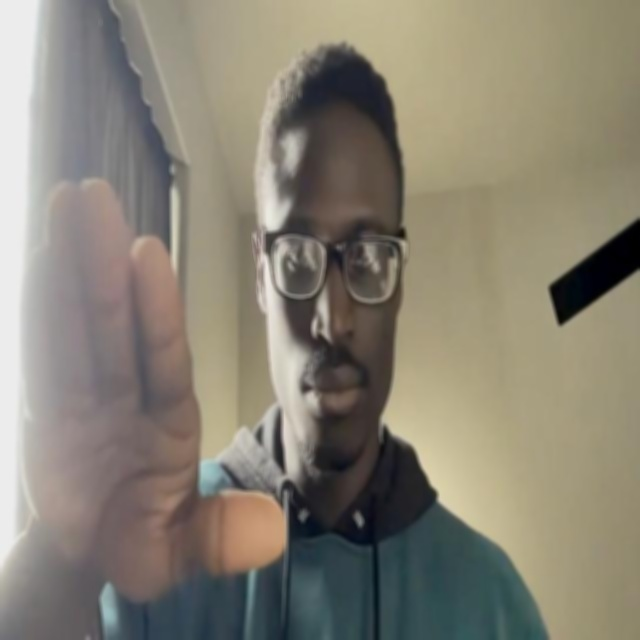Paper: (18, 179, 288, 603)
